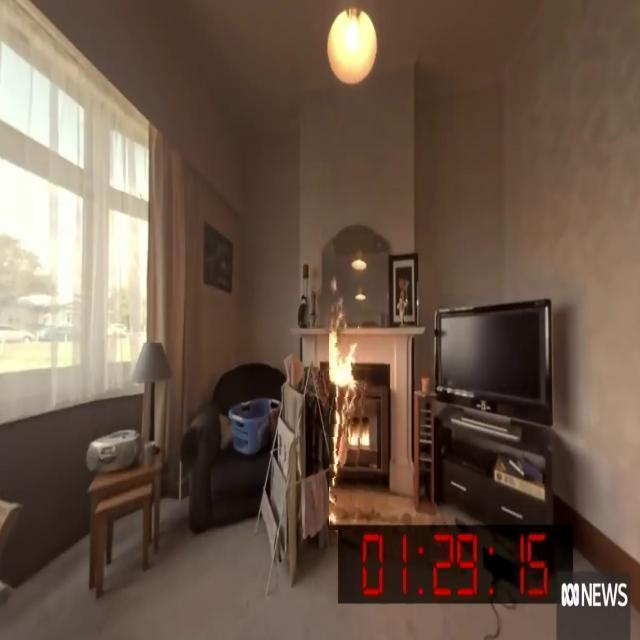smoke: (329, 294, 371, 530)
